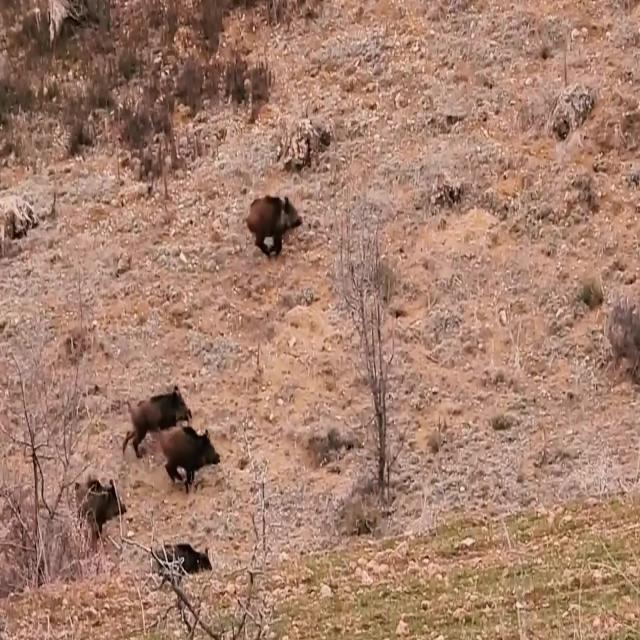pig: (232, 172, 310, 252), (122, 370, 200, 442), (66, 452, 128, 522), (160, 418, 218, 480), (148, 533, 206, 587)
